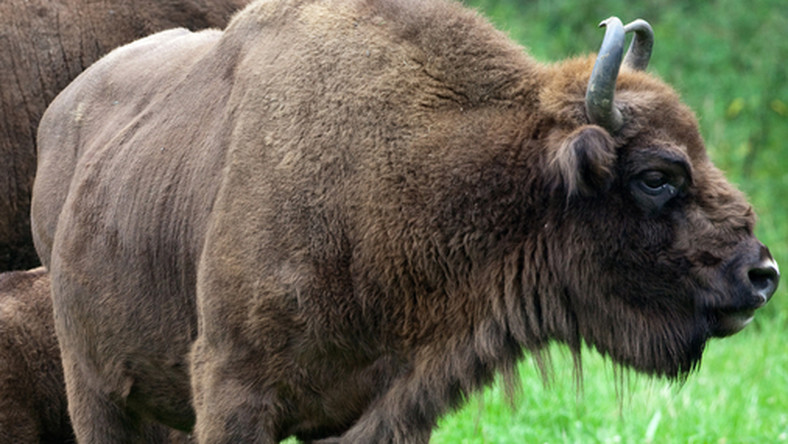zubr: (26, 1, 782, 435)
